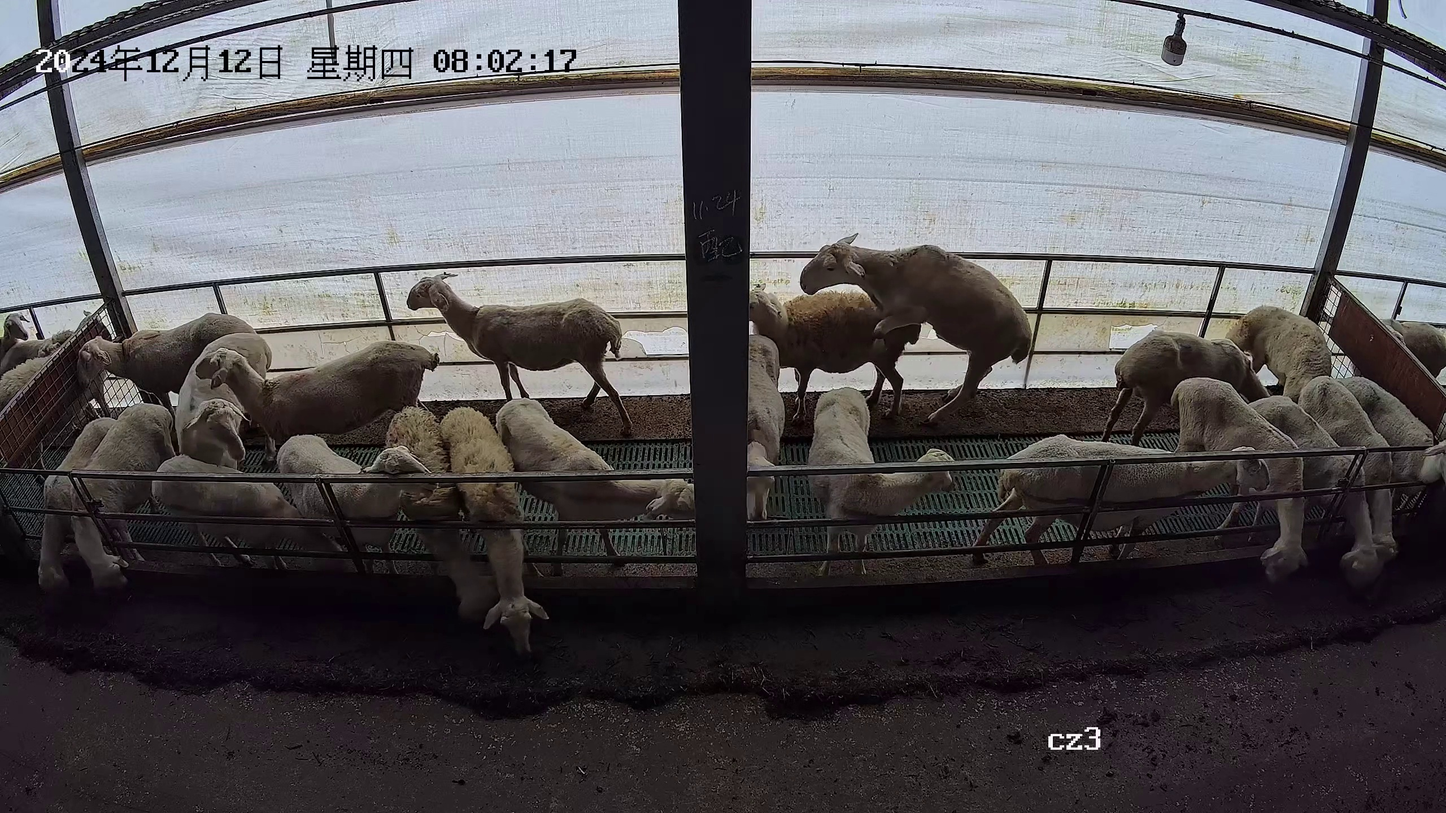Smounting: (744, 231, 1035, 429)
mounted: (749, 280, 925, 425)
